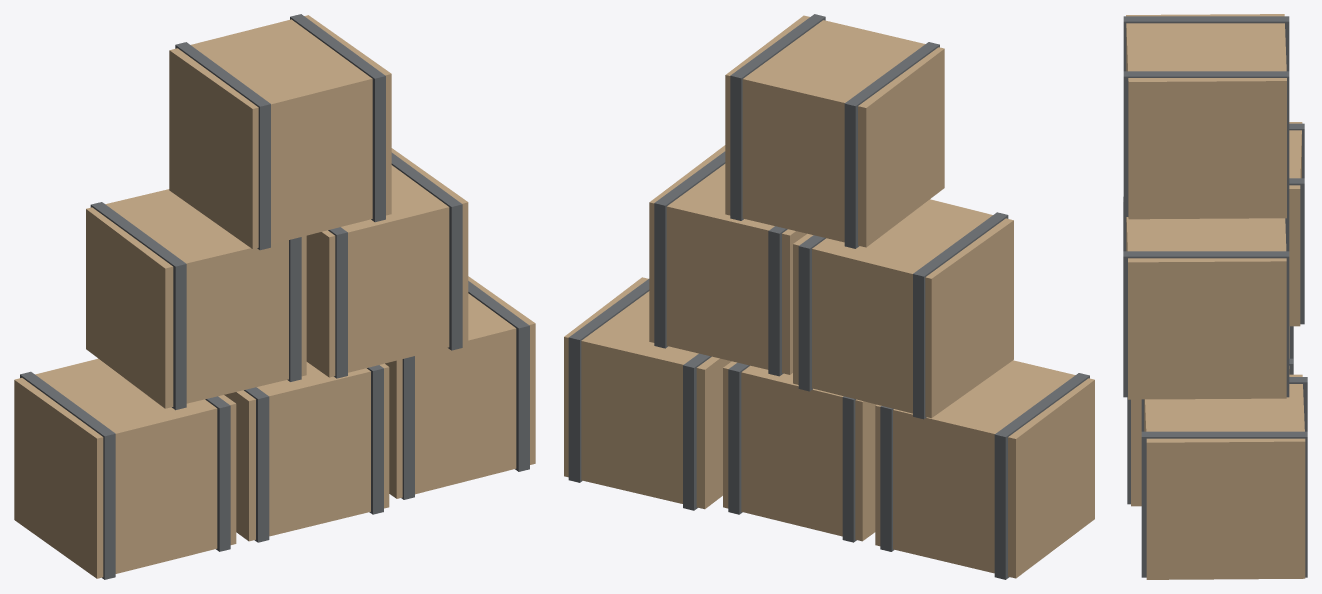
The model's file is crate_stack_04.glb.
3 views of the same model, side by side, from view 1: azimuth 30°, elevation 25°; view 2: azimuth 150°, elevation 25°; view 3: azimuth 270°, elevation 25° (orthographic). The views are drawn at different scales.
Visible parts, largest first — view 1: crate5, crate0, crate3, crate4, crate1, crate2, brace3_-0.18, brace5_0.18, brace5_-0.18, brace0_-0.18, brace4_0.18, brace2_0.18 (+6 smaller); view 2: crate5, crate3, crate0, crate2, crate4, crate1, brace5_-0.18, brace0_-0.18, brace2_0.18, brace5_0.18, brace3_-0.18, brace4_0.18 (+6 smaller); view 3: crate5, crate2, crate4, brace2_0.18, brace4_0.18, brace5_0.18, crate3, brace5_-0.18, crate1, brace3_0.18, brace1_0.18, brace2_-0.18 (+2 smaller).
Boxes of the visible parts, box(x1,y1,x2,y2) form: crate5: box(169, 15, 391, 248); crate0: box(14, 358, 236, 578); crate3: box(86, 189, 306, 408); crate4: box(306, 148, 468, 377); crate1: box(224, 362, 389, 541); crate2: box(385, 276, 535, 498); brace3_-0.18: box(90, 202, 186, 410); brace5_0.18: box(290, 14, 385, 222); brace5_-0.18: box(175, 42, 270, 250); brace0_-0.18: box(20, 371, 115, 579); brace4_0.18: box(391, 152, 462, 350); brace2_0.18: box(468, 281, 529, 471); crate5: box(725, 15, 944, 247); crate3: box(793, 199, 1013, 418); crate0: box(875, 360, 1094, 578); crate2: box(564, 277, 731, 509); crate4: box(649, 145, 806, 374); crate1: box(723, 361, 876, 541); brace5_-0.18: box(844, 42, 939, 248); brace0_-0.18: box(994, 373, 1089, 579); brace2_0.18: box(568, 279, 649, 482); brace5_0.18: box(730, 14, 825, 220); brace3_-0.18: box(913, 212, 1008, 419); brace4_0.18: box(654, 151, 725, 348); crate5: box(1126, 14, 1286, 219); crate2: box(1144, 374, 1305, 579); crate4: box(1126, 217, 1286, 399); brace2_0.18: box(1141, 431, 1307, 577); brace4_0.18: box(1123, 251, 1289, 397); brace5_0.18: box(1123, 71, 1289, 216); crate3: box(1289, 122, 1302, 326); brace5_-0.18: box(1123, 16, 1289, 71); crate1: box(1131, 326, 1289, 506); brace3_0.18: box(1289, 178, 1304, 324); brace1_0.18: box(1127, 358, 1293, 504); brace2_-0.18: box(1141, 377, 1307, 431).
Size of the model in its own units: 1.41 by 1.31 by 0.5108.
